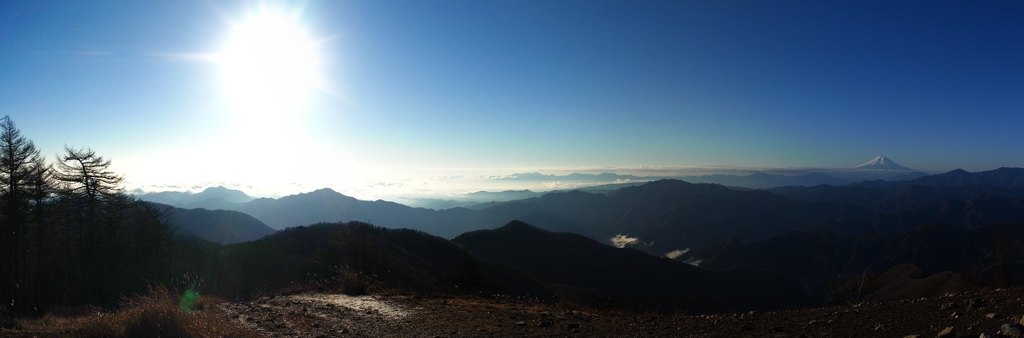Tree: (0, 116, 176, 247)
